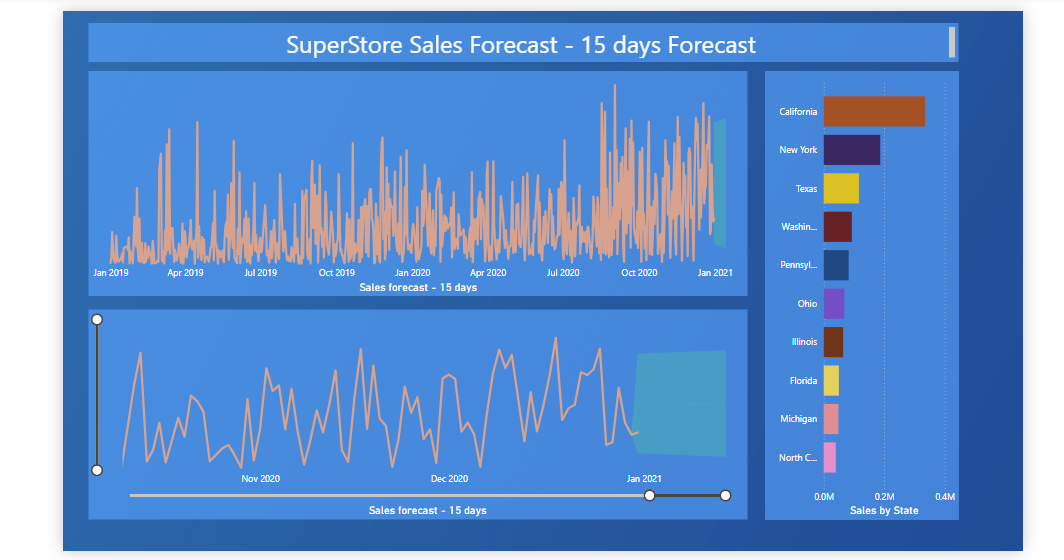

Layout of this report page (visuals, bound fields, positions):
{"tool":"powerbi","page":{"name":"Page 2","canvas":[1280,720],"ordinal":1},"visuals":[{"type":"lineChart","fields":{"Y":["Sum(SuperStore_Sales_Dataset.Sales)"],"Category":["SuperStore_Sales_Dataset.Order Date"]},"box":[33.3,80,878.3,300],"z":0},{"type":"lineChart","fields":{"Y":["Sum(SuperStore_Sales_Dataset.Sales)"],"Category":["SuperStore_Sales_Dataset.Order Date"]},"box":[33.3,398.3,878.3,280],"z":1000},{"type":"barChart","fields":{"Y":["Sum(SuperStore_Sales_Dataset.Sales)"],"Category":["SuperStore_Sales_Dataset.State"]},"box":[935,80,258.3,598.3],"z":2000},{"type":"textbox","box":[33.3,16.7,1160,51.7],"z":3000}]}

Visuals, with their boxes on the page's 1280x720 design canvas (x1, y1, x2, y2). These are canvas units, not pixel positions in the 1064x560 screenshot, which may show the page scaled, cropped or inside an application window:
lineChart - Sum(SuperStore_Sales_Dataset.Sales) x SuperStore_Sales_Dataset.Order Date: 33,80,912,380
lineChart - Sum(SuperStore_Sales_Dataset.Sales) x SuperStore_Sales_Dataset.Order Date: 33,398,912,678
barChart - Sum(SuperStore_Sales_Dataset.Sales) x SuperStore_Sales_Dataset.State: 935,80,1193,678
textbox: 33,17,1193,68
